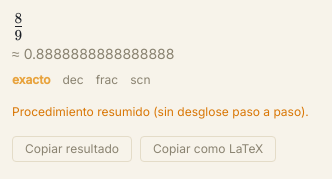
Test: ResultPanel › Fase 2.5 — selector de formato dec/frac/scn/exacto › formato 'scn' muestra notación científica
Click the button "scn" at [140, 80], box [130, 72, 150, 88]
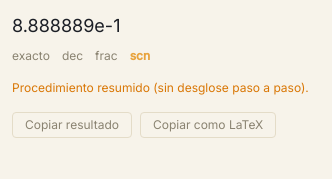
Now the text "8.888889e-1" is shown, box [12, 15, 120, 36]
